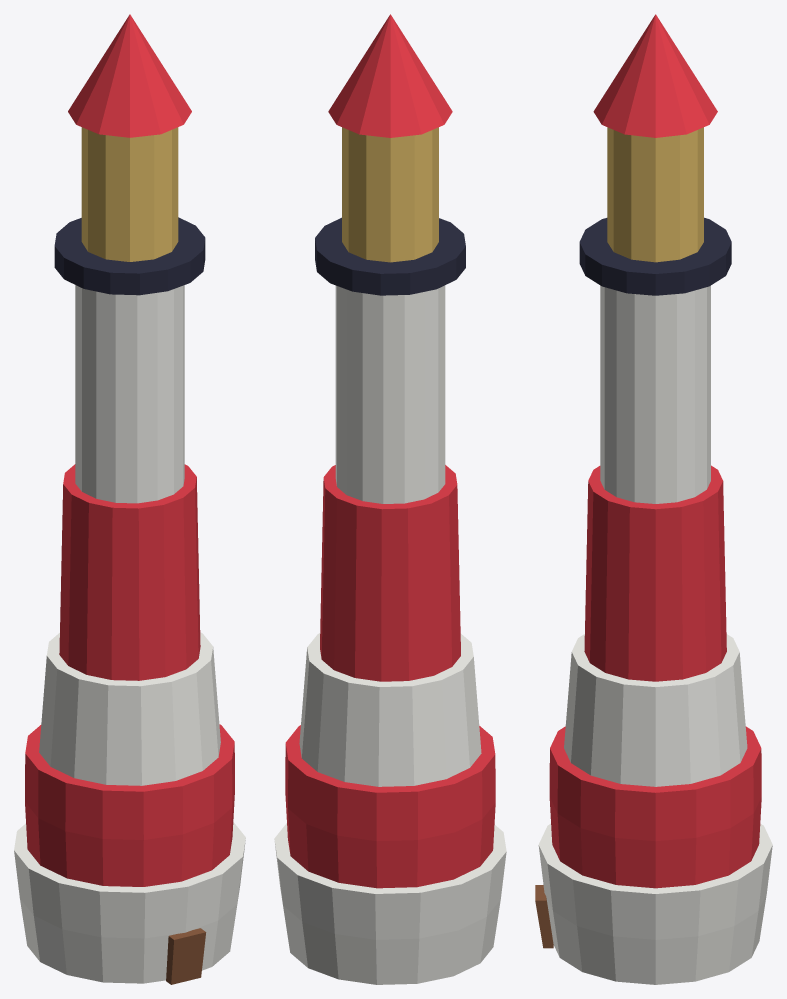
Rendered from lighthouse.glb.
3 renders of one model, left to right at view 1: azimuth 30°, elevation 25°; view 2: azimuth 150°, elevation 25°; view 3: azimuth 270°, elevation 25°, orthographic.
Parts seen in each view (by area): view 1: lighthouse_offwhite, lighthouse_red, lighthouse_gold, lighthouse_black, lighthouse_door; view 2: lighthouse_offwhite, lighthouse_red, lighthouse_gold, lighthouse_black; view 3: lighthouse_offwhite, lighthouse_red, lighthouse_gold, lighthouse_black, lighthouse_door.
Boxes of the visible parts, x1,y1,x2,y2 form: lighthouse_offwhite: (14, 285, 245, 983); lighthouse_red: (25, 14, 234, 886); lighthouse_gold: (81, 127, 178, 261); lighthouse_black: (54, 217, 205, 295); lighthouse_door: (166, 928, 206, 984); lighthouse_offwhite: (274, 285, 506, 984); lighthouse_red: (285, 14, 495, 888); lighthouse_gold: (342, 127, 438, 262); lighthouse_black: (315, 217, 465, 295); lighthouse_offwhite: (538, 285, 772, 984); lighthouse_red: (549, 14, 761, 888); lighthouse_gold: (607, 127, 703, 262); lighthouse_black: (579, 217, 731, 295); lighthouse_door: (535, 885, 553, 948).
Size of the model in its own units: 7.04 by 30.75 by 7.14.
